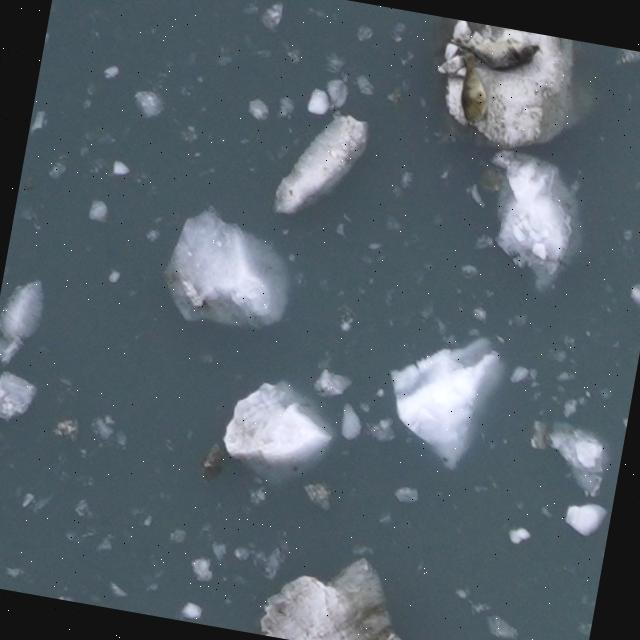seal: (440, 21, 546, 78), (447, 51, 501, 133)
